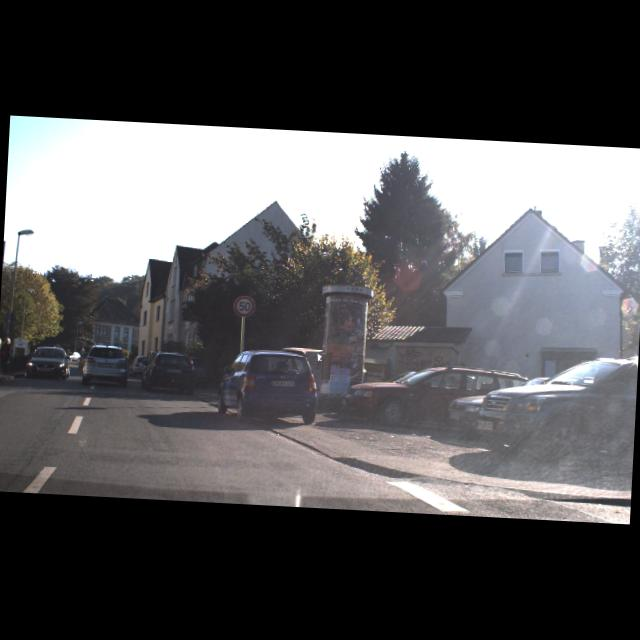prohibitory: (232, 294, 255, 318)
